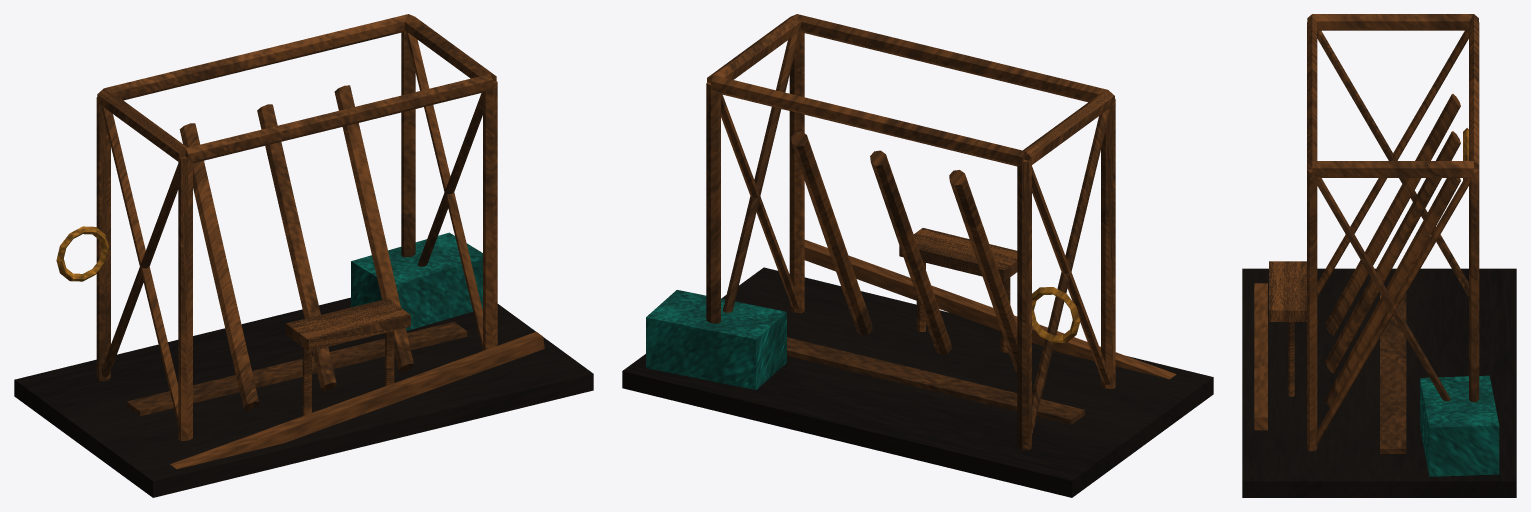
File: ark-yard-scaffold.glb
3 views of the same model, side by side, from view 1: azimuth 30°, elevation 25°; view 2: azimuth 150°, elevation 25°; view 3: azimuth 270°, elevation 25° (orthographic). The views are drawn at different scales.
Visible parts, largest first — view 1: ark-yard-scaffold; view 2: ark-yard-scaffold; view 3: ark-yard-scaffold.
Part boxes in pixels (bbox=[...]): ark-yard-scaffold: bbox=[14, 14, 593, 497]; ark-yard-scaffold: bbox=[622, 14, 1213, 497]; ark-yard-scaffold: bbox=[1242, 14, 1516, 497].
Size of the model in its own units: 6.6 by 4.45 by 3.6.
1 material, 1 textured.
